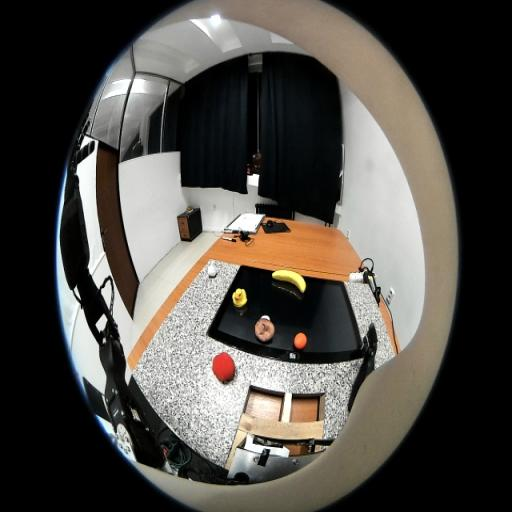Banana: (272, 269, 306, 294)
Duck: (232, 288, 247, 308)
Mushroom: (255, 314, 275, 342)
Onion: (208, 262, 216, 276)
Orange: (294, 332, 308, 350)
Tomato: (212, 352, 236, 382)
